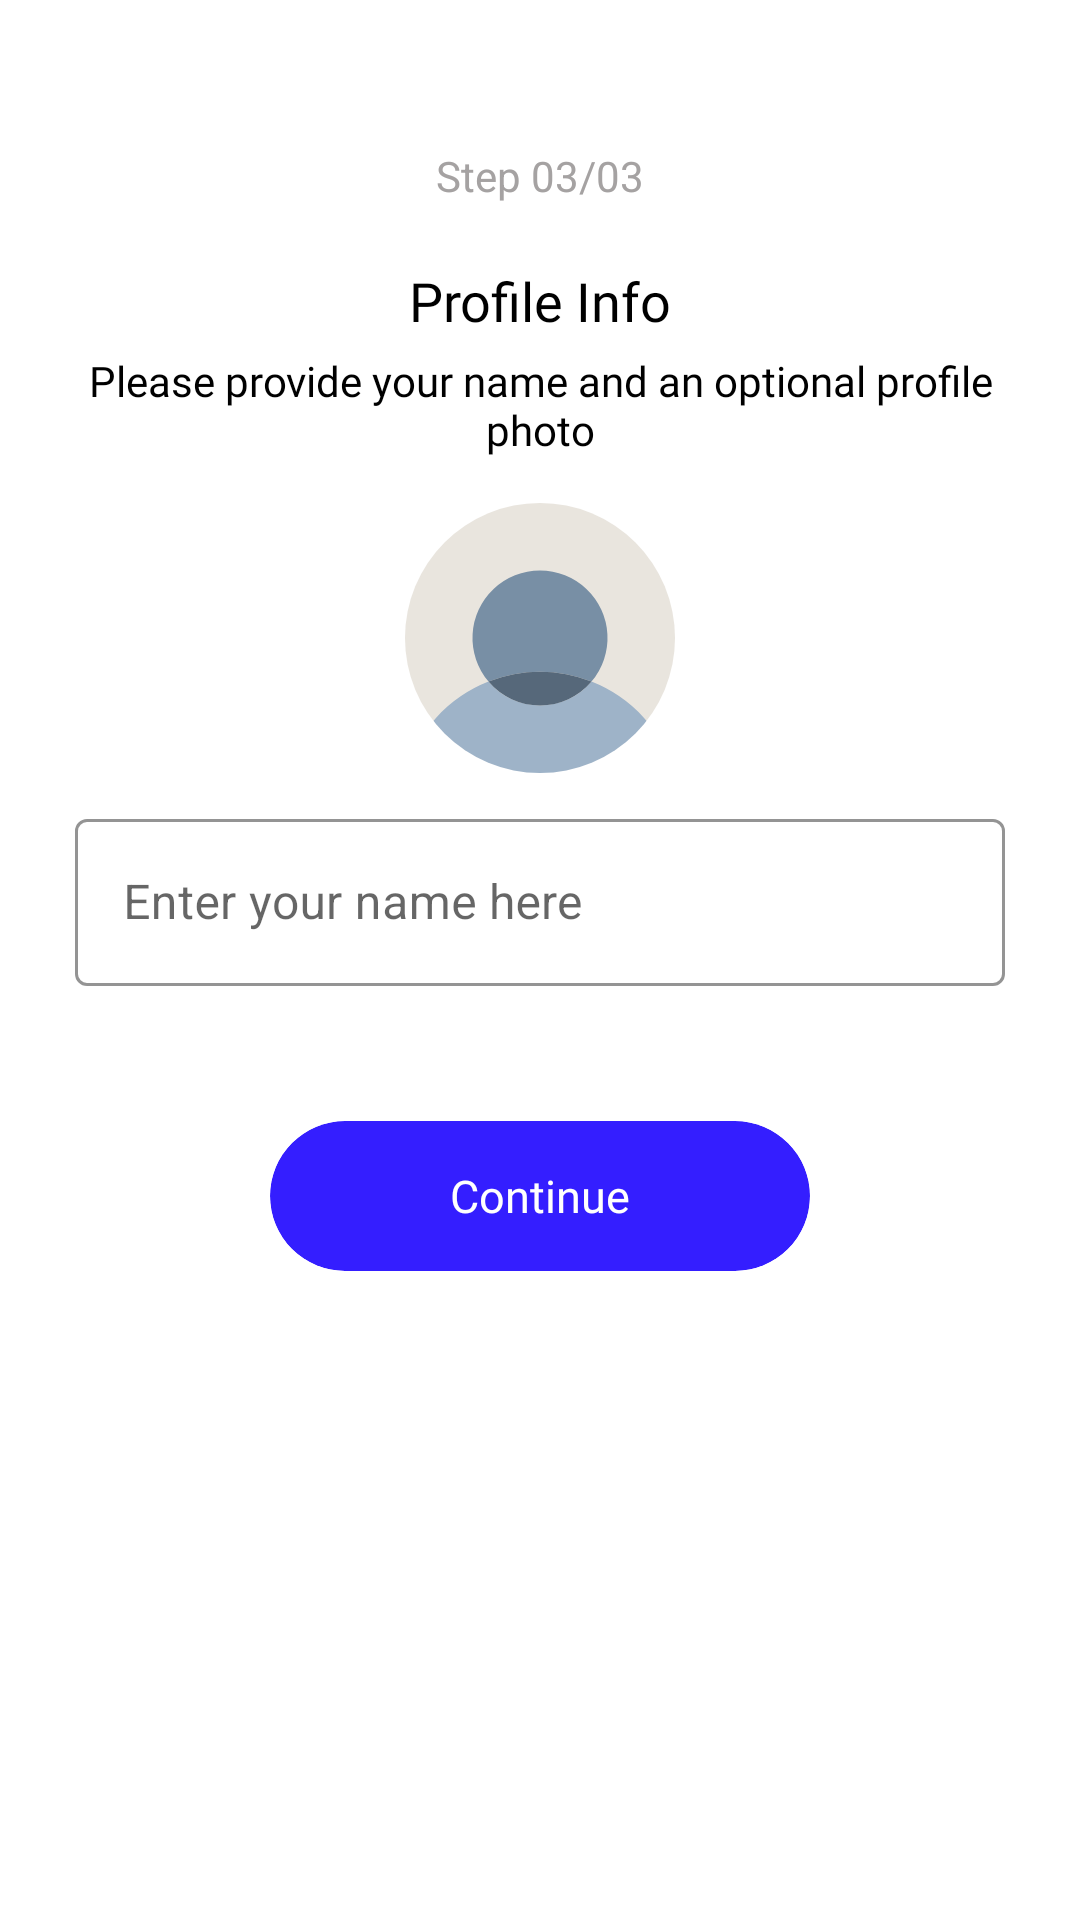

Named icons in this screenshot (1080×1920) and their bounding boxes, [left=x1, top=y1, right=x2, bottom=y2]:
user: [left=405, top=503, right=675, bottom=773]
